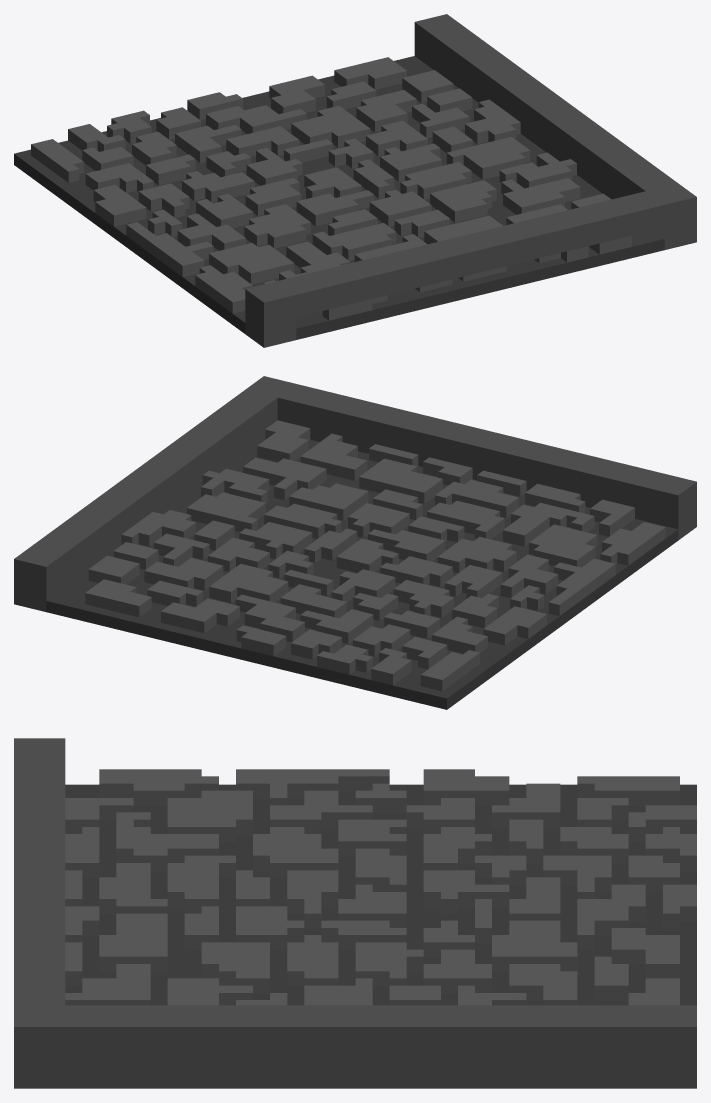
File: Rock Path Curve.obj
3 views of the same model, one above another, from view 1: azimuth 30°, elevation 25°; view 2: azimuth 150°, elevation 25°; view 3: azimuth 270°, elevation 25° (orthographic). The views are drawn at different scales.
Bounding box in the file's own units: 4 × 0.4 × 4.
Materials: 1 (1 with a texture image).
